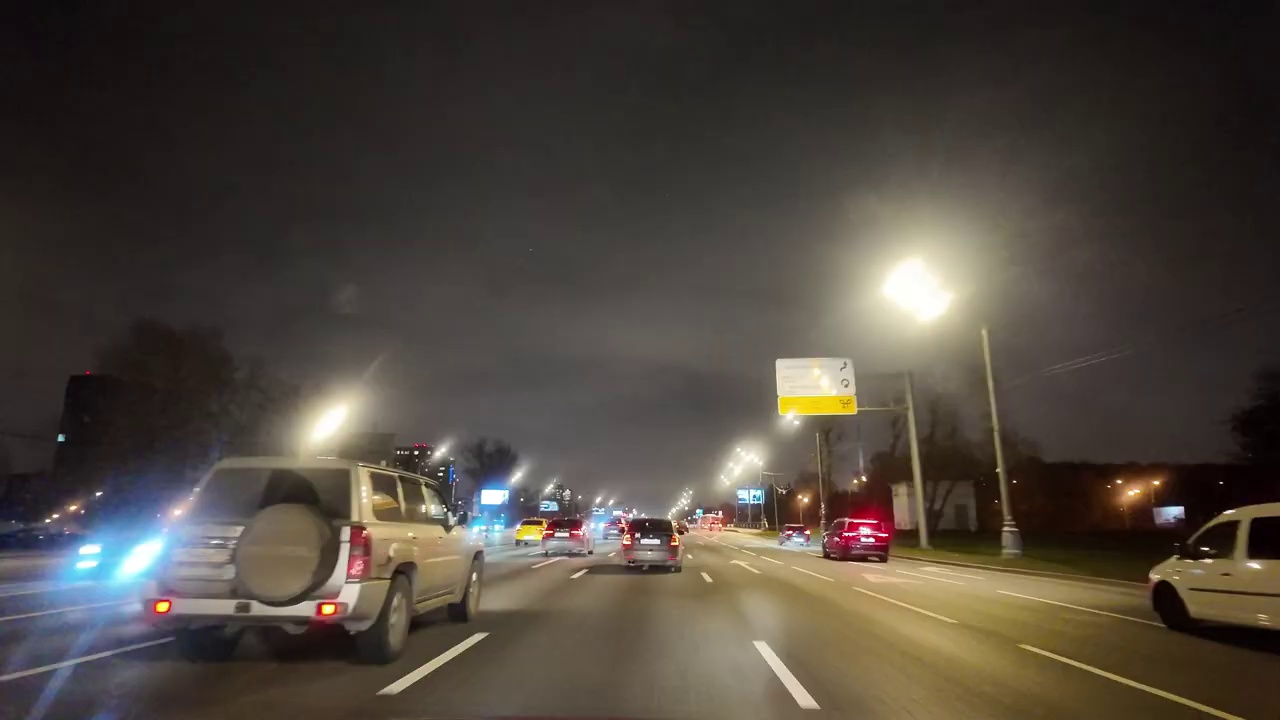acesa: (878, 253, 958, 327), (299, 393, 358, 453), (724, 443, 764, 480)
